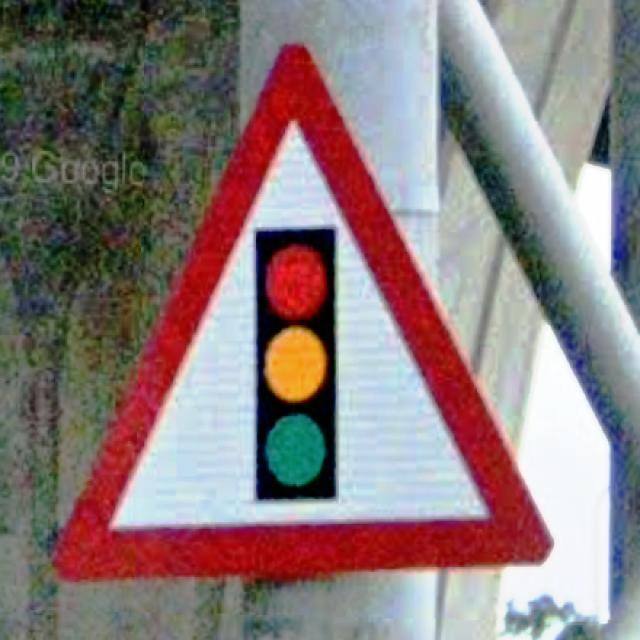signalahead: (54, 43, 556, 587)
